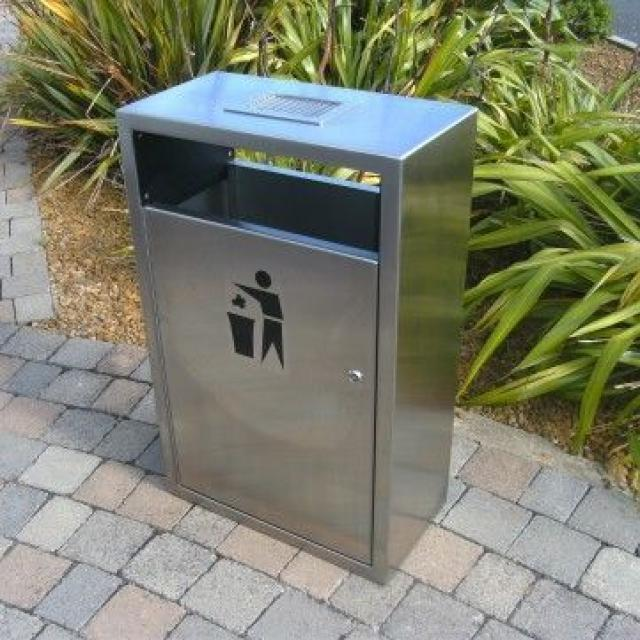garbage_bin: (112, 67, 477, 584)
